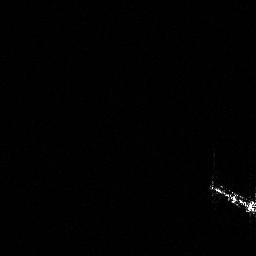ship: (206, 176, 256, 218)
